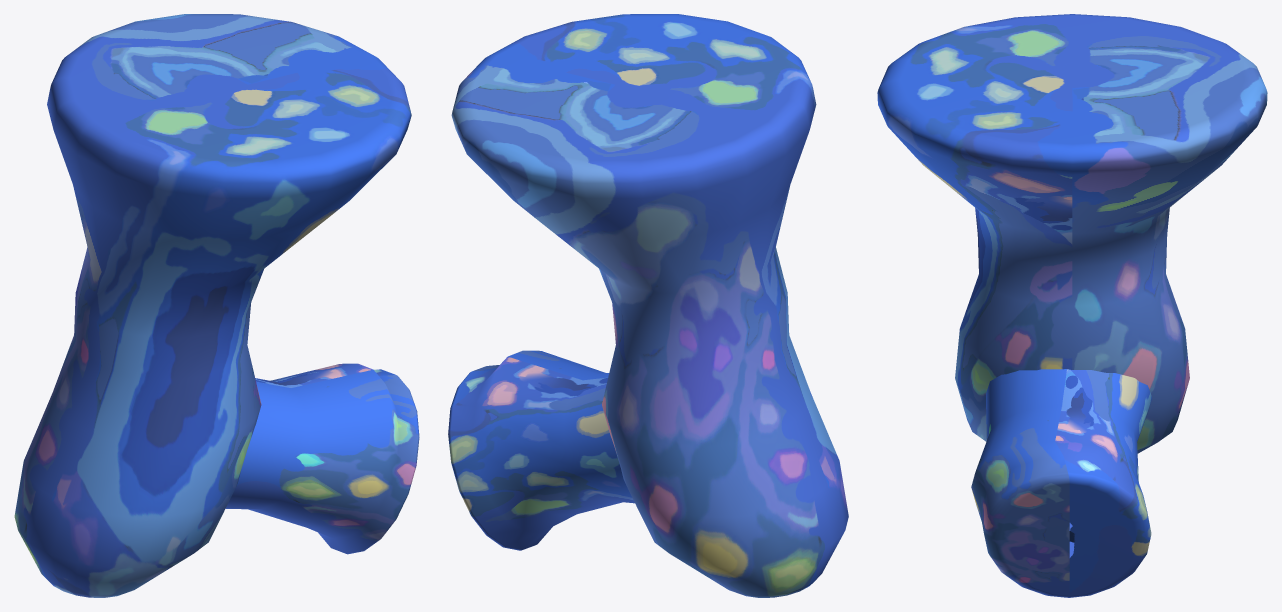
File: tiaotai02.fbx
The picture shows the model from 3 angles, left to right: view 1: azimuth 30°, elevation 25°; view 2: azimuth 150°, elevation 25°; view 3: azimuth 270°, elevation 25°; orthographic projection. The views are drawn at different scales.
Parts seen in each view (by area): view 1: pCylinder2, pCylinder3; view 2: pCylinder2, pCylinder3; view 3: pCylinder2, pCylinder3.
Boxes of the visible parts, bbox=[...] form: pCylinder2: bbox=[14, 14, 411, 597]; pCylinder3: bbox=[225, 363, 419, 554]; pCylinder2: bbox=[451, 14, 848, 597]; pCylinder3: bbox=[448, 350, 634, 550]; pCylinder2: bbox=[877, 14, 1267, 453]; pCylinder3: bbox=[971, 369, 1151, 597].
Size of the model in its own units: 1.96 by 2.46 by 1.86.
